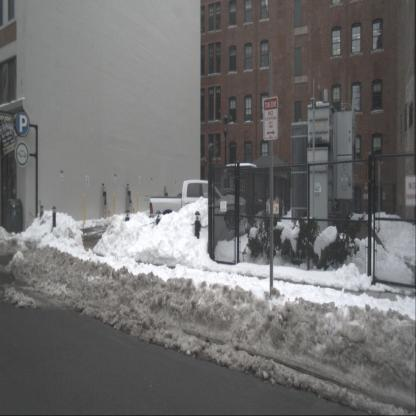vehicle-truck: (150, 179, 246, 231)
